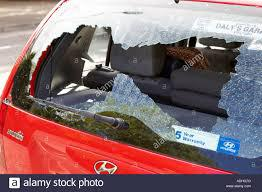Rear-windscreen-Damage: (0, 0, 261, 160)
